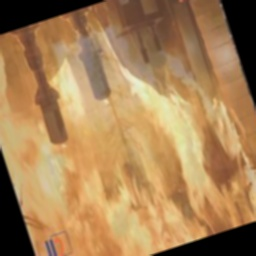fire: (0, 4, 256, 256)
